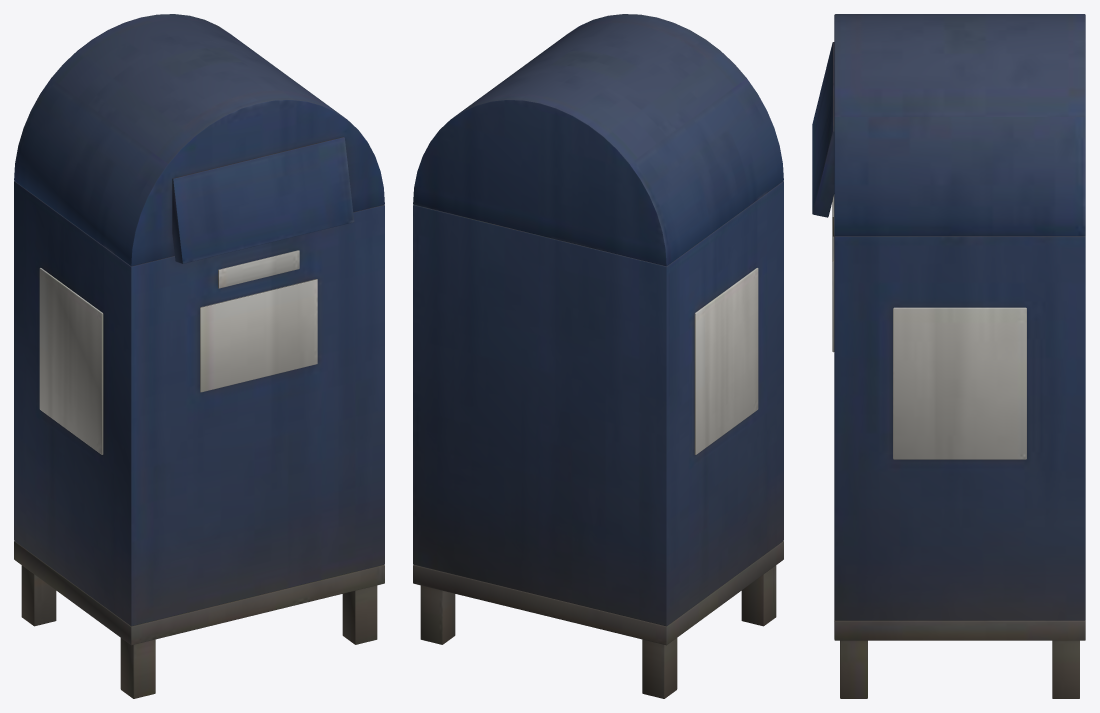
Rendered from mailbox-v2.glb.
3 views of the same model, side by side, from view 1: azimuth 30°, elevation 25°; view 2: azimuth 150°, elevation 25°; view 3: azimuth 270°, elevation 25° (orthographic). The views are drawn at different scales.
Parts seen in each view (by area): view 1: mailbox; view 2: mailbox; view 3: mailbox.
Boxes of the visible parts, left/top/right/bottom form: mailbox: left=14, top=14, right=384, bottom=698; mailbox: left=413, top=14, right=783, bottom=698; mailbox: left=812, top=14, right=1085, bottom=698.
Bounding box in the file's own units: 0.5696 × 1.2 × 0.4898.
Materials: 1 (1 with a texture image).
